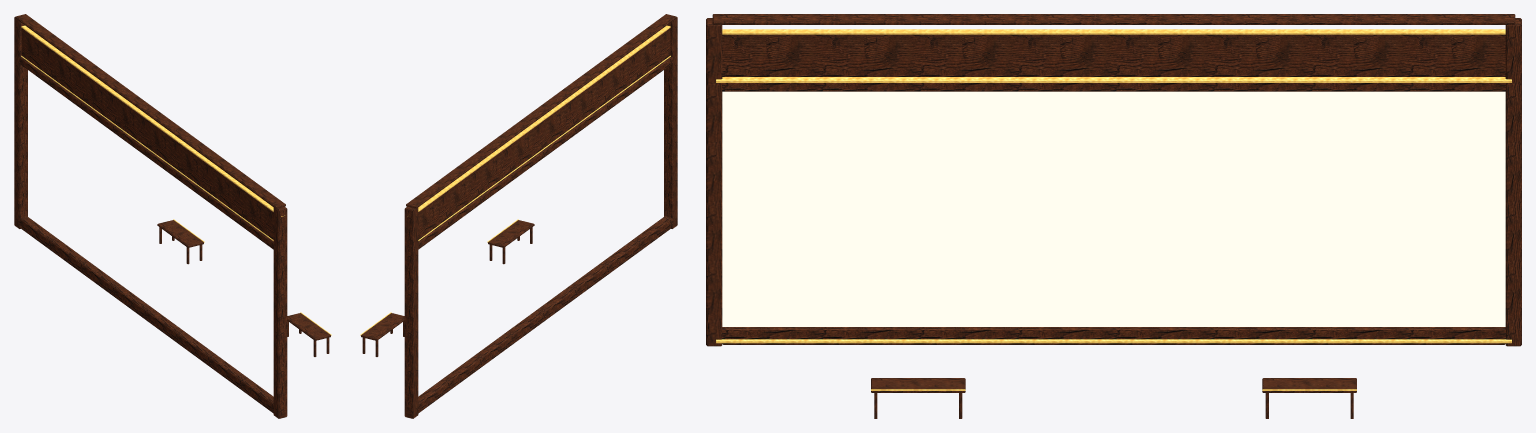
Rendered from sp_artwall.glb.
3 renders of one model, left to right at view 1: azimuth 30°, elevation 25°; view 2: azimuth 150°, elevation 25°; view 3: azimuth 270°, elevation 25°, orthographic. The views are drawn at different scales.
Visible parts, largest first — view 1: spire; view 2: spire; view 3: spire.
Part boxes in pixels (box(x1,y1,x2,y2)): spire: box(14, 14, 331, 418); spire: box(360, 14, 677, 418); spire: box(706, 14, 1521, 418).
Size of the model in its own units: 5.87 by 11.01 by 25.
3 materials, 2 textured.
